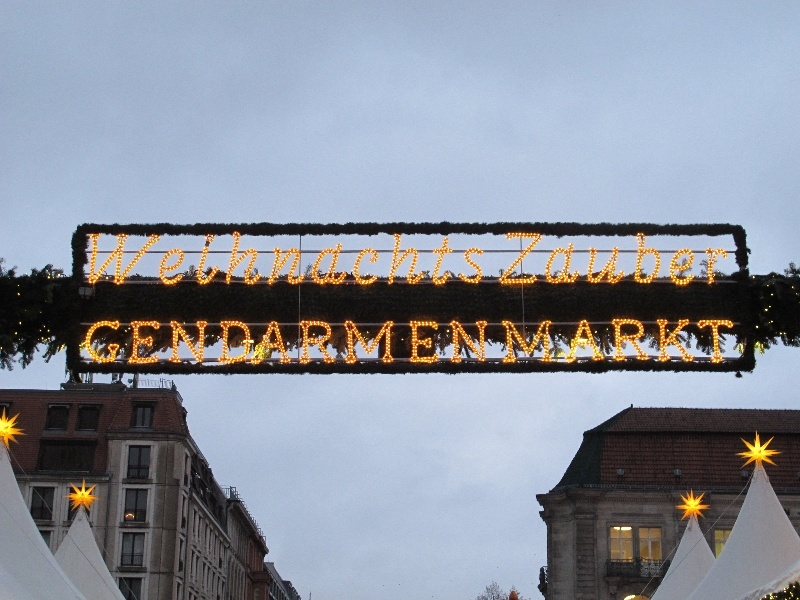text: (513, 230, 528, 287), (529, 230, 544, 287), (545, 230, 560, 287), (561, 230, 576, 287), (577, 230, 592, 287), (593, 230, 608, 287), (609, 230, 624, 287), (625, 230, 640, 287), (641, 230, 656, 287), (657, 230, 672, 287), (673, 230, 688, 287), (689, 230, 704, 287), (705, 230, 720, 287), (721, 230, 736, 287), (97, 231, 112, 287), (113, 231, 128, 287), (129, 231, 144, 287), (145, 231, 160, 287), (161, 231, 176, 287), (177, 231, 192, 287), (193, 231, 208, 287), (209, 231, 224, 287), (225, 231, 240, 287), (241, 231, 256, 287), (257, 231, 272, 287), (273, 231, 288, 287), (289, 231, 304, 287), (305, 231, 320, 287), (321, 231, 336, 287), (337, 231, 352, 287), (353, 231, 368, 287), (369, 231, 384, 287), (385, 231, 400, 287), (401, 231, 416, 287), (417, 231, 432, 287), (433, 231, 448, 287), (449, 231, 464, 287), (465, 231, 480, 287), (97, 318, 112, 366), (113, 318, 128, 366), (129, 318, 144, 366), (145, 318, 160, 366), (161, 318, 176, 366), (177, 318, 192, 366), (193, 318, 208, 366), (209, 318, 224, 366), (225, 318, 240, 366), (241, 318, 256, 366), (257, 318, 272, 366), (273, 318, 288, 366), (289, 318, 304, 366), (305, 318, 320, 366), (321, 318, 336, 366), (337, 318, 352, 366), (353, 318, 368, 366), (369, 318, 384, 366), (385, 318, 400, 366), (401, 318, 416, 366), (417, 318, 432, 366), (433, 318, 448, 366), (449, 318, 464, 366), (465, 318, 480, 366), (481, 318, 496, 366), (497, 318, 512, 366), (513, 318, 528, 366), (529, 318, 544, 366), (545, 318, 560, 366), (561, 318, 576, 366), (577, 318, 592, 366), (593, 318, 608, 366), (609, 318, 624, 366), (625, 318, 640, 366), (641, 318, 656, 366), (657, 318, 672, 366), (673, 318, 688, 366), (689, 318, 704, 366), (705, 318, 720, 366), (721, 318, 736, 366), (85, 231, 96, 287), (85, 318, 96, 366), (481, 231, 490, 287), (506, 230, 512, 287), (737, 230, 738, 287)
